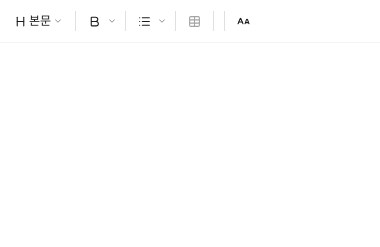
TipTapMenuBar Confluence식 메뉴 › 목록 밖에서는 내어쓰기·들여쓰기가 비활성화된다
Click the button with test id "editor-menubar-list-source": (162, 21) top-left (155, 10), bottom-right (169, 32)
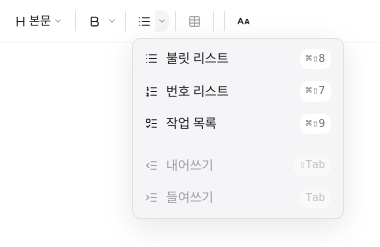
Now the menu item "내어쓰기 ⇧Tab" is disabled, box top-left (133, 149), bottom-right (343, 182)
Now the menu item "들여쓰기 Tab" is disabled, box top-left (133, 182), bottom-right (343, 214)
